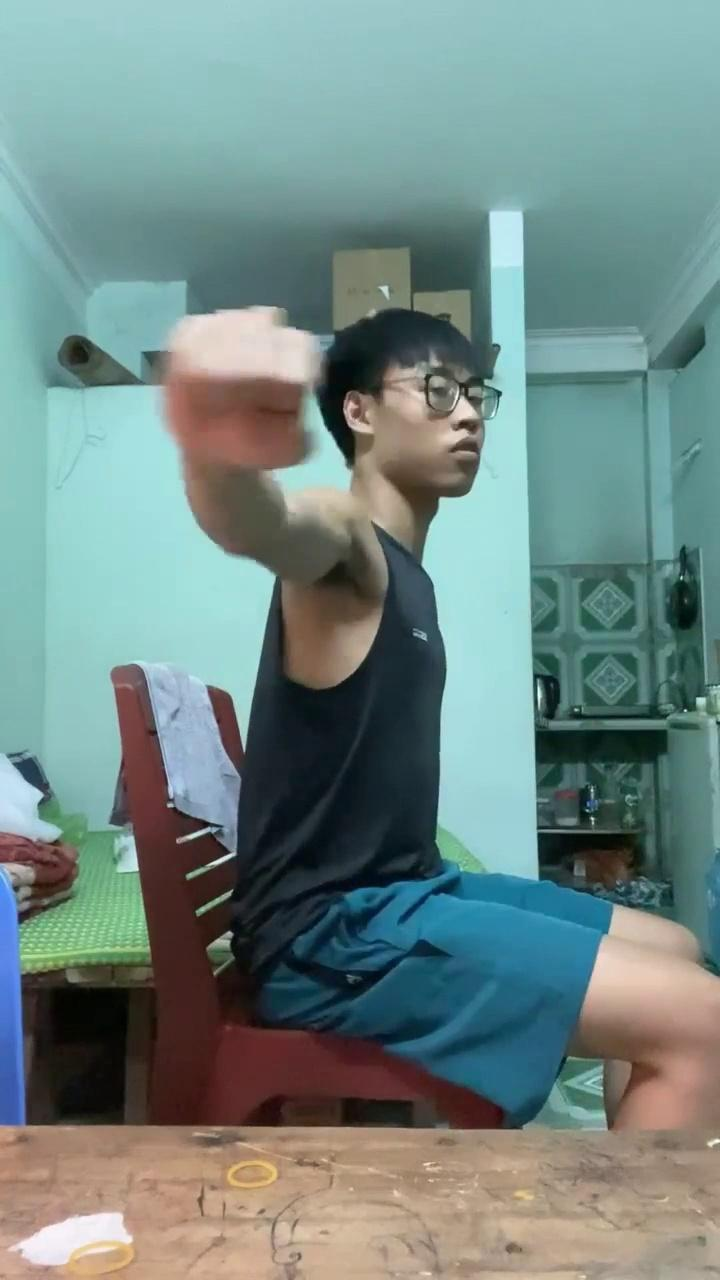GoodPosture: (164, 308, 719, 1129)
